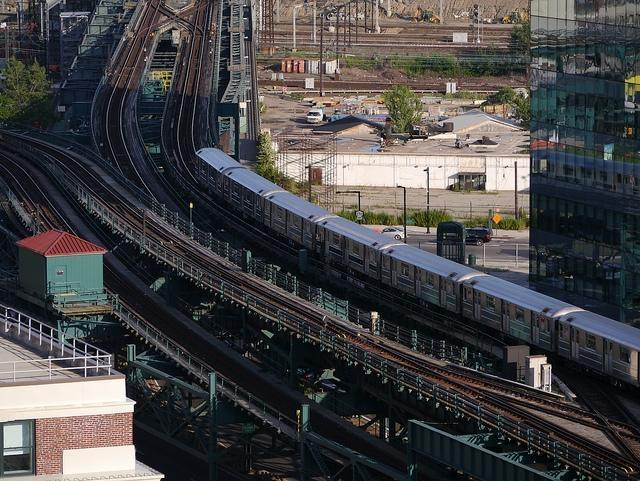car: (465, 228, 493, 246), (383, 227, 404, 241), (306, 109, 324, 124)
truck: (306, 108, 324, 124)
